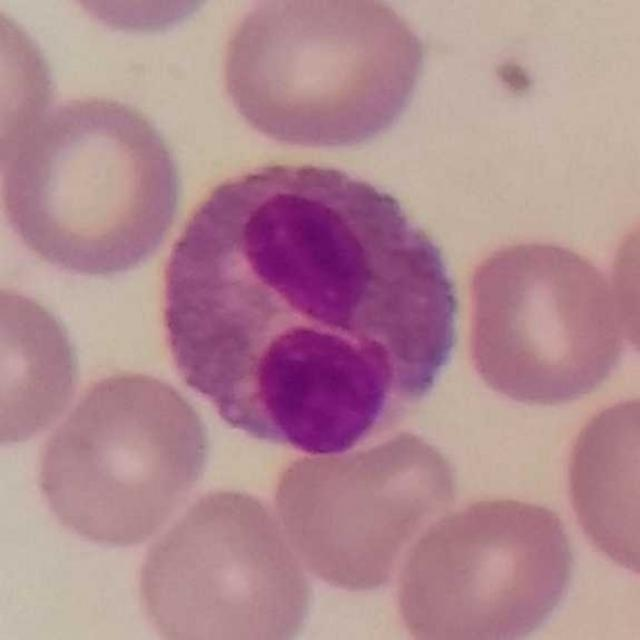Eosinophil: (151, 146, 462, 452)
Platelets: (487, 48, 541, 106)
RBC: (0, 85, 189, 282), (28, 362, 217, 553), (267, 419, 465, 596), (212, 0, 434, 157), (455, 228, 631, 414), (126, 479, 318, 640), (386, 487, 583, 640), (555, 387, 640, 586), (0, 275, 87, 455), (0, 0, 63, 181), (42, 0, 241, 43), (600, 192, 640, 378)
